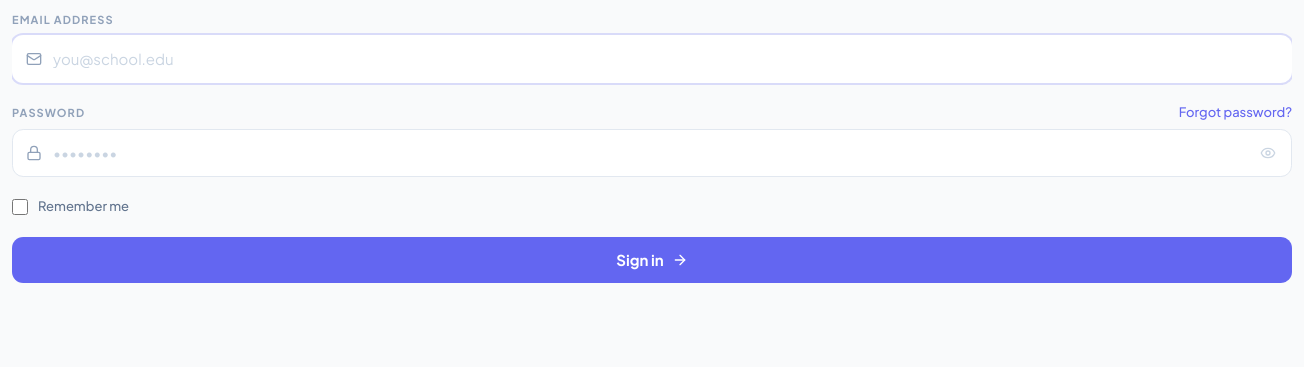
Scenario: SignInForm › shows a validation error when email is empty
The image size is (1304, 367).
Type "Secret123!" into the password field labelled "Password" at [652, 153], box [12,128,1292,177]
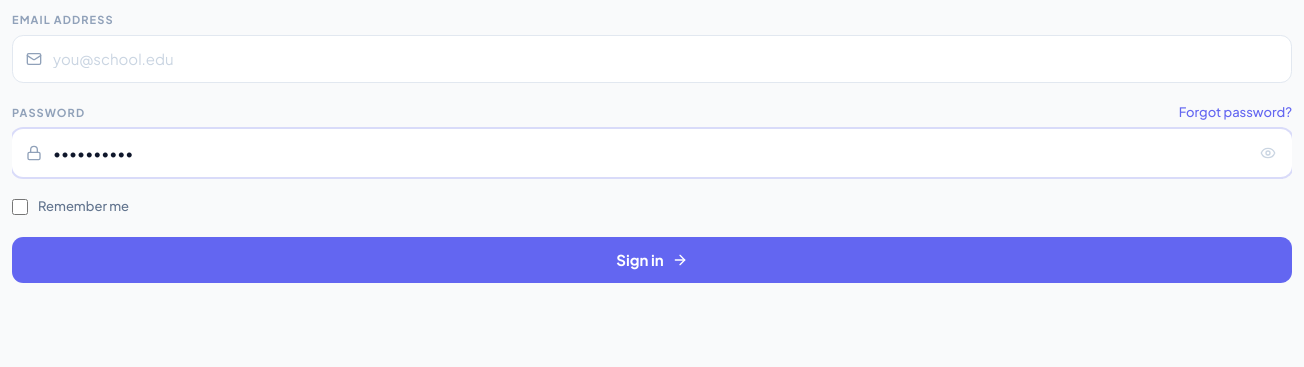
Click the button "Sign in" at [652, 260], box [12,236,1292,283]
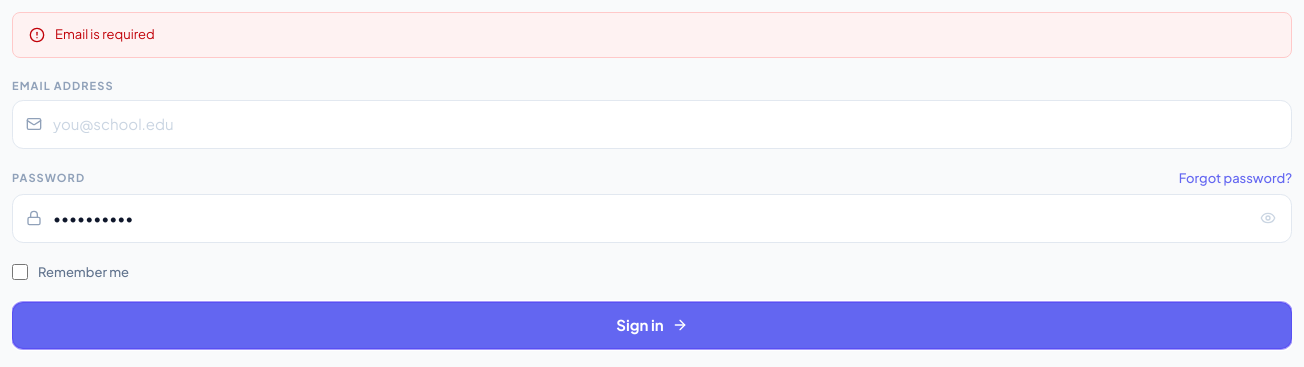
Expected: the message reads "Email is required", [55,26,155,42]
